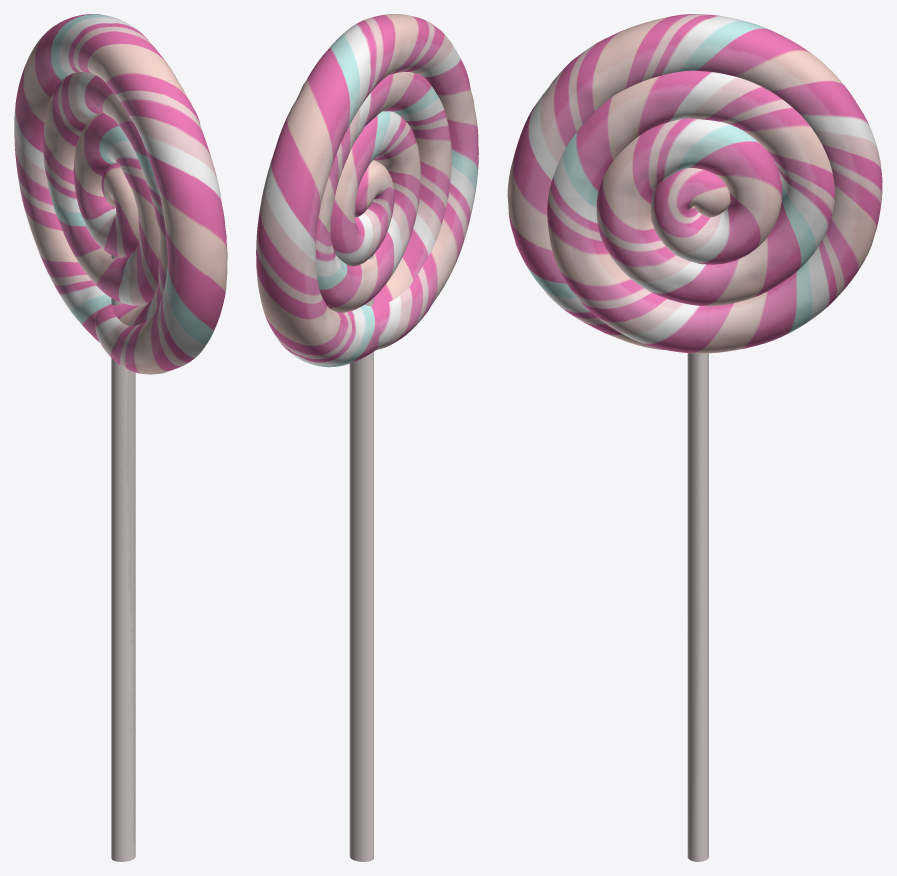
The model's file is red.glb.
3 views of the same model, side by side, from view 1: azimuth 30°, elevation 25°; view 2: azimuth 150°, elevation 25°; view 3: azimuth 270°, elevation 25° (orthographic).
Parts seen in each view (by area): view 1: lolipop4; view 2: lolipop4; view 3: lolipop4.
Part boxes in pixels (<box>): lolipop4: <box>14,14,227,861</box>; lolipop4: <box>256,14,478,861</box>; lolipop4: <box>507,14,882,861</box>.
Bounding box in the file's own units: 0.3661 × 4.3 × 1.75.
1 material, 1 textured.
